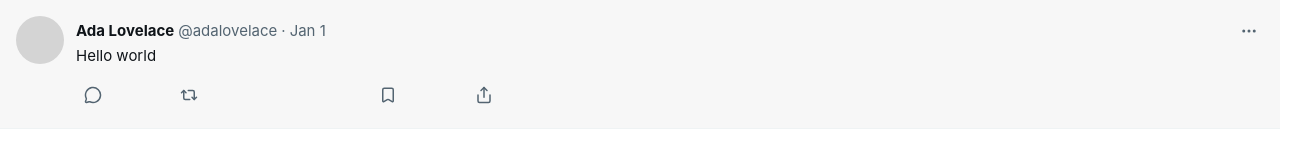
Scenario: PostItem › shows the post management menu to the post author
Click the button named "More options": (1249,31) left=1234, top=16, right=1264, bottom=46
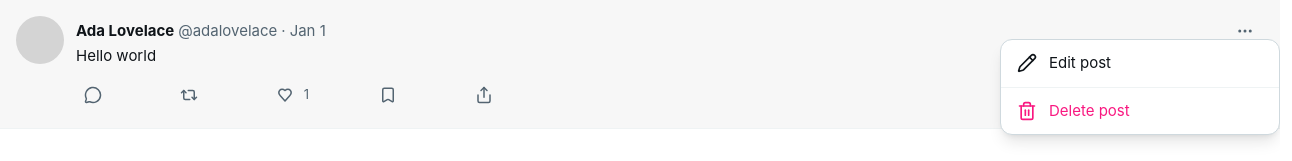
Expected: the button "Edit post" is shown, left=1001, top=40, right=1279, bottom=88
Expected: the button "Delete post" is shown, left=1001, top=88, right=1279, bottom=134
